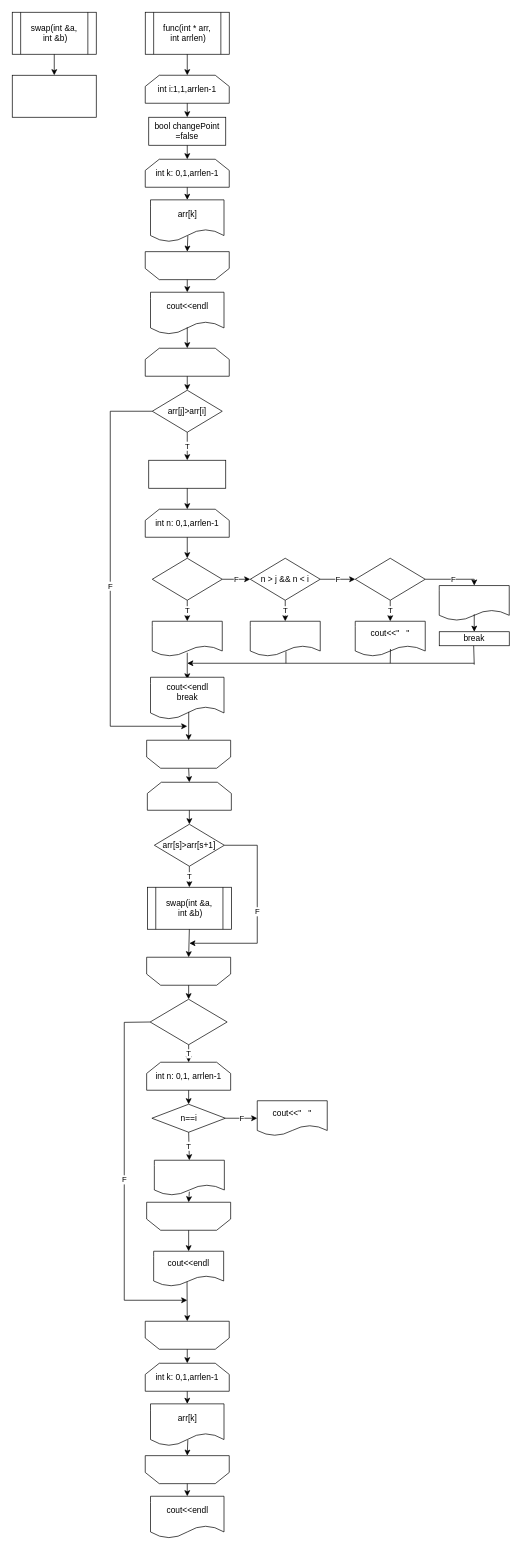
Image size: 522x1551. Some labels were removed from this diagram. The centre of each missing label's shape, as x and y in pixels:
changePoint =true: point 187,474
changPoint =false;: point 188,1022
cout<<" +" break: point 189,1177
cout<<"-+": point 474,603
cout<<"---": point 285,638
cout<<"^--": point 187,638
int j: 0,1,arrlen-1: point 187,362
int s: i-1,-1,0: point 189,796
int temp=a a=b b=temp: point 54,96
n < j: point 390,579
n==j: point 187,579
